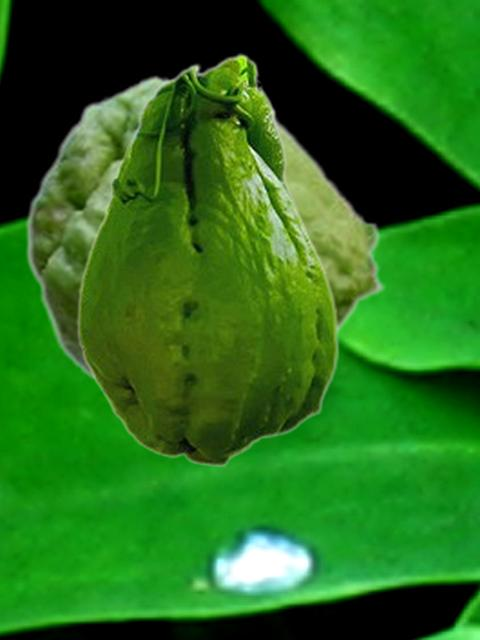sayote: (25, 71, 387, 383), (76, 53, 339, 467)
